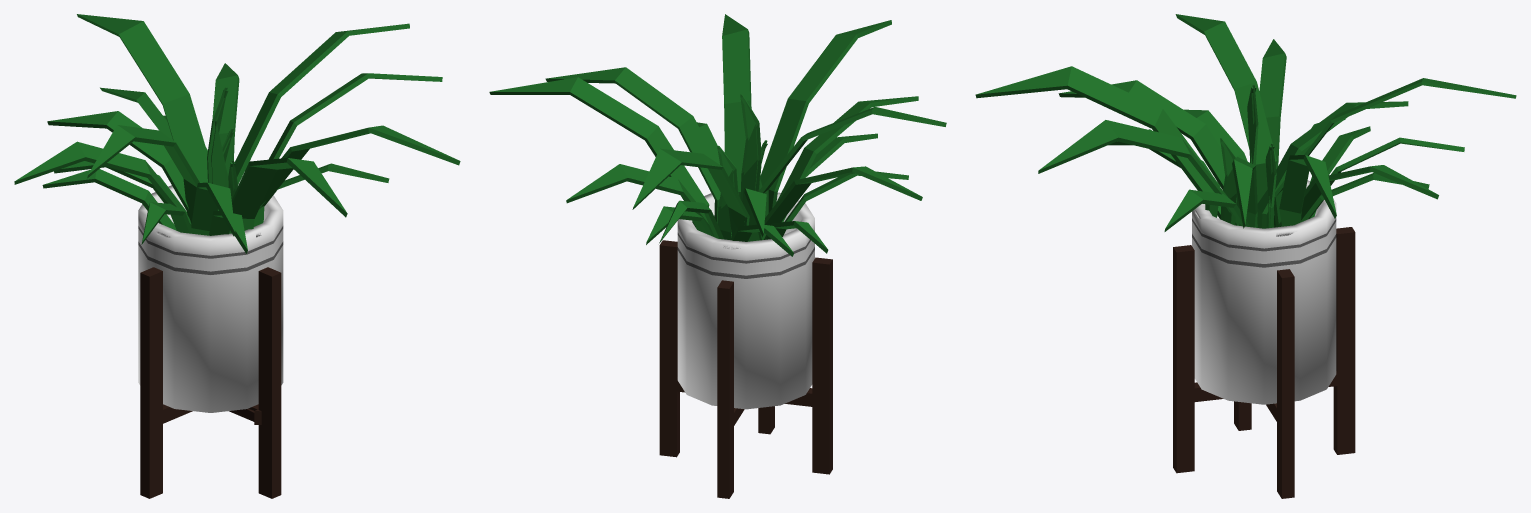
File: plant2.fbx
3 views of the same model, side by side, from view 1: azimuth 30°, elevation 25°; view 2: azimuth 150°, elevation 25°; view 3: azimuth 270°, elevation 25° (orthographic). The views are drawn at different scales.
Parts seen in each view (by area): view 1: Torus.002; view 2: Torus.002; view 3: Torus.002.
Boxes of the visible parts, x1=… form: Torus.002: x1=14, y1=14, x2=460, y2=498; Torus.002: x1=489, y1=14, x2=946, y2=498; Torus.002: x1=975, y1=14, x2=1516, y2=498.
Bounding box in the file's own units: 101 × 87.28 × 111.
